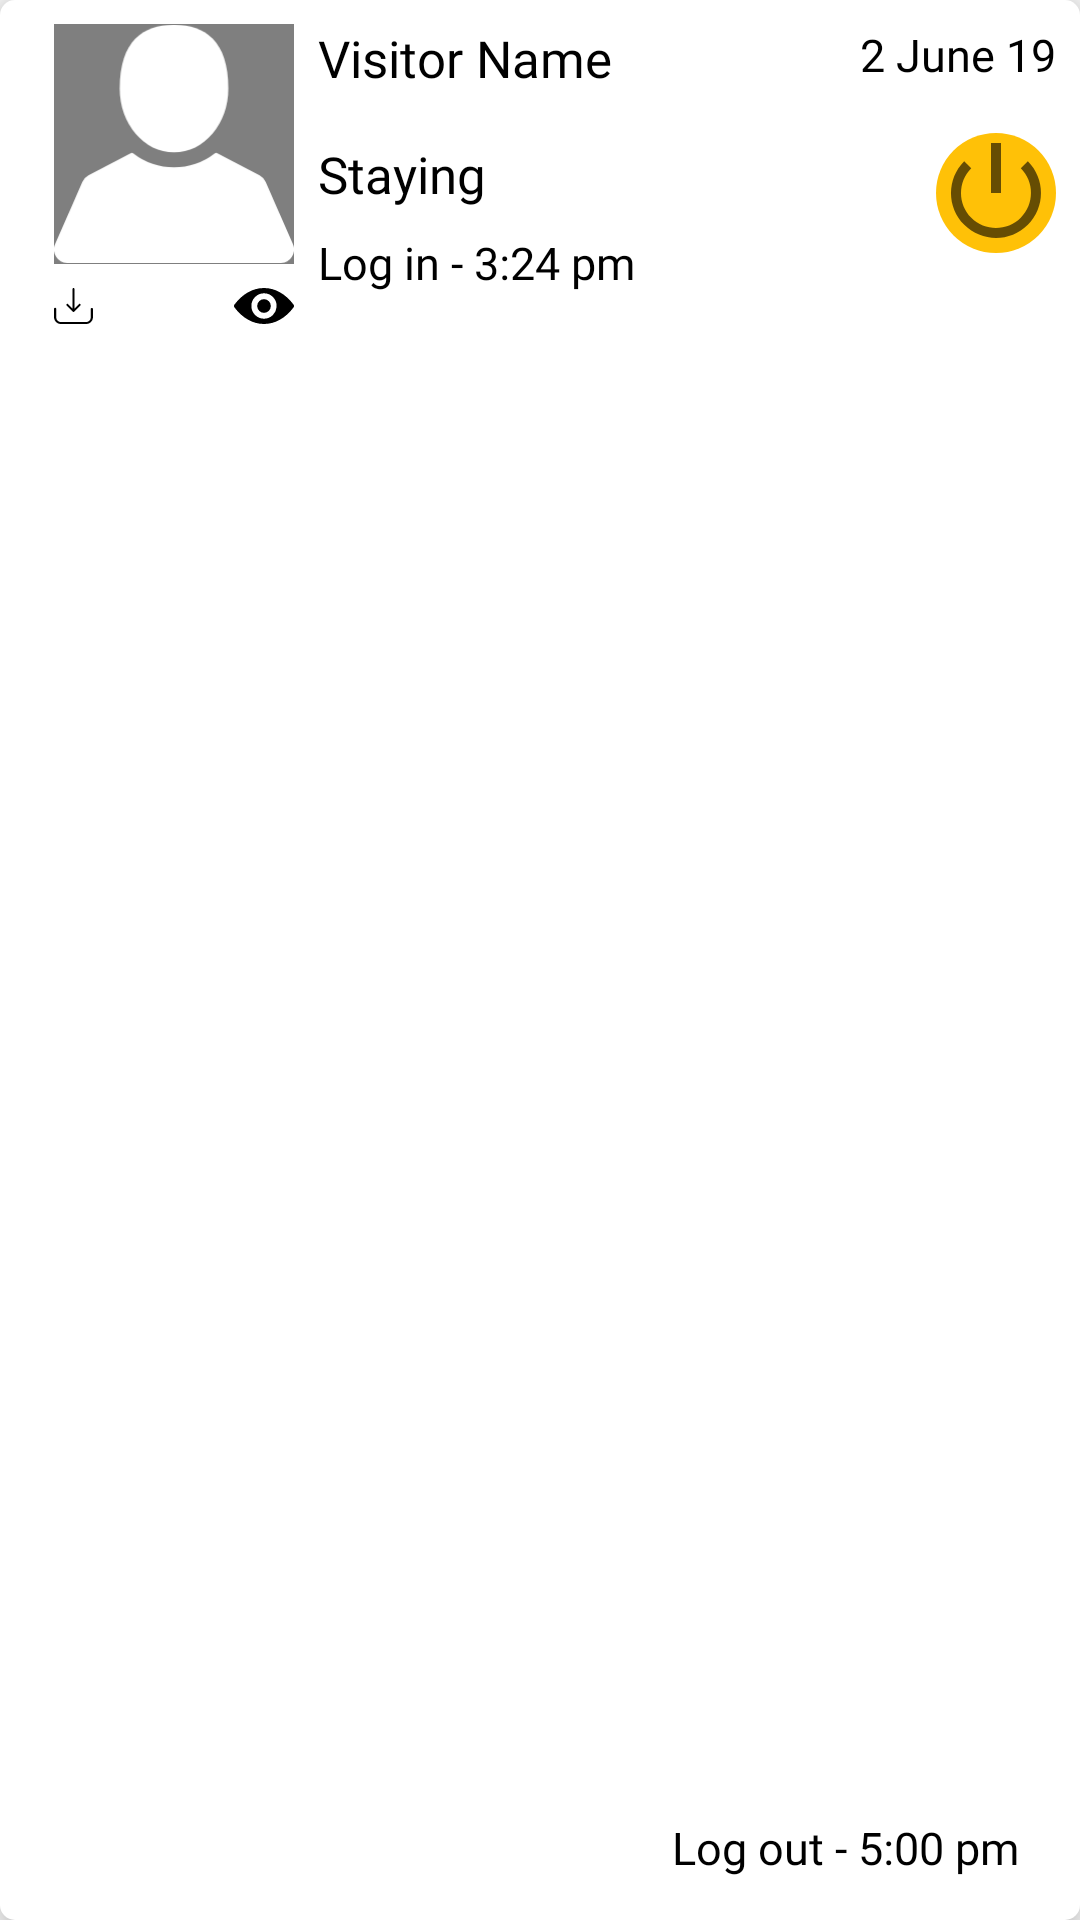

Where to tap for icons on this 1080 x 1920 app screen, as [x,y]:
download: [73,306]
lock power off: [996,193]
user silhouette: [174,144]
